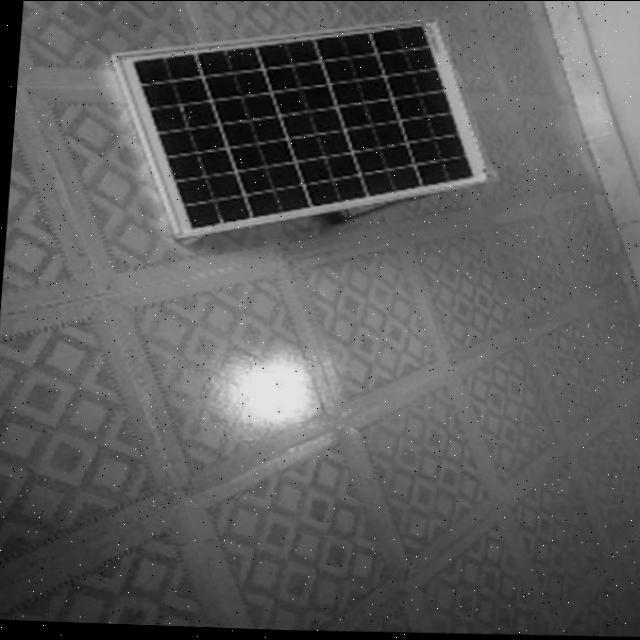Normal Solar Panel: (91, 9, 496, 251)
